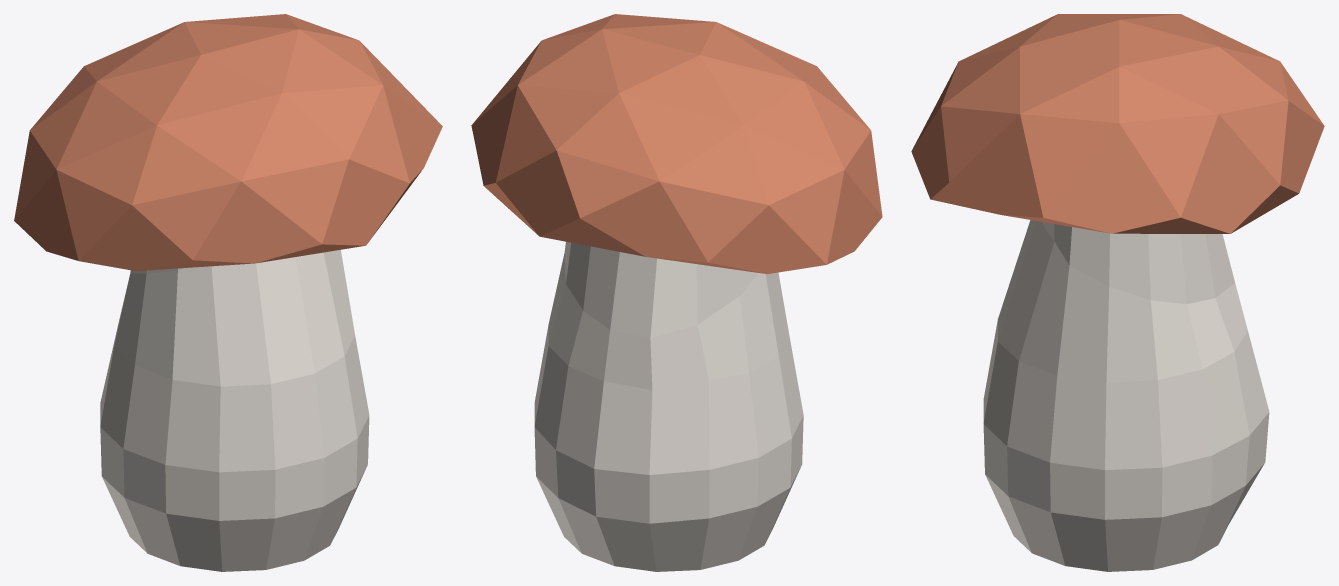
The model's file is Boletus_bigFlipped.fbx.
3 renders of one model, left to right at view 1: azimuth 30°, elevation 25°; view 2: azimuth 150°, elevation 25°; view 3: azimuth 270°, elevation 25°, orthographic. The views are drawn at different scales.
Visible parts, largest first — view 1: Cylinder; view 2: Cylinder; view 3: Cylinder.
Part boxes in pixels (x1,y1,x2,y2): Cylinder: (14, 14, 442, 571); Cylinder: (471, 14, 882, 571); Cylinder: (911, 14, 1324, 571).
Size of the model in its own units: 109 by 139 by 105.
